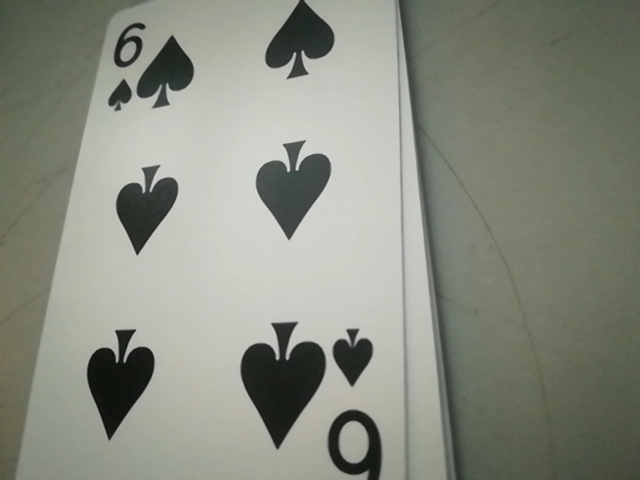ht 6: (327, 330, 388, 480)
